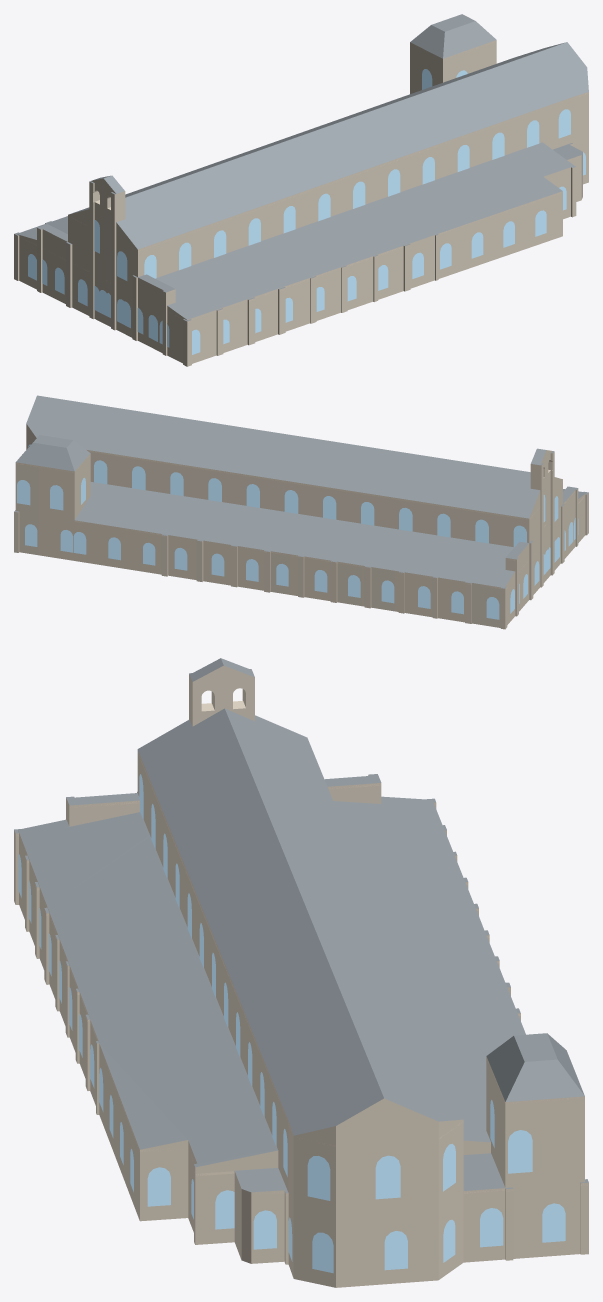
The model's file is detail.glb.
3 views of the same model, one above another, from view 1: azimuth 30°, elevation 25°; view 2: azimuth 150°, elevation 25°; view 3: azimuth 270°, elevation 25° (orthographic). The views are drawn at different scales.
Parts seen in each view (by area): view 1: roof, stone, window, trim; view 2: roof, stone, window, trim; view 3: roof, stone, window, trim.
Boxes of the visible parts, <box> form: roof: <box>14,14,588,321</box>; stone: <box>14,40,588,366</box>; window: <box>28,69,585,354</box>; trim: <box>17,40,588,323</box>; roof: <box>14,395,588,588</box>; stone: <box>14,424,588,629</box>; window: <box>17,444,578,619</box>; trim: <box>16,433,584,588</box>; roof: <box>14,658,588,1193</box>; stone: <box>14,665,588,1287</box>; window: <box>18,774,565,1273</box>; trim: <box>15,752,587,1195</box>.
Bounding box in the file's own units: 62.61 × 16 × 36.42.
